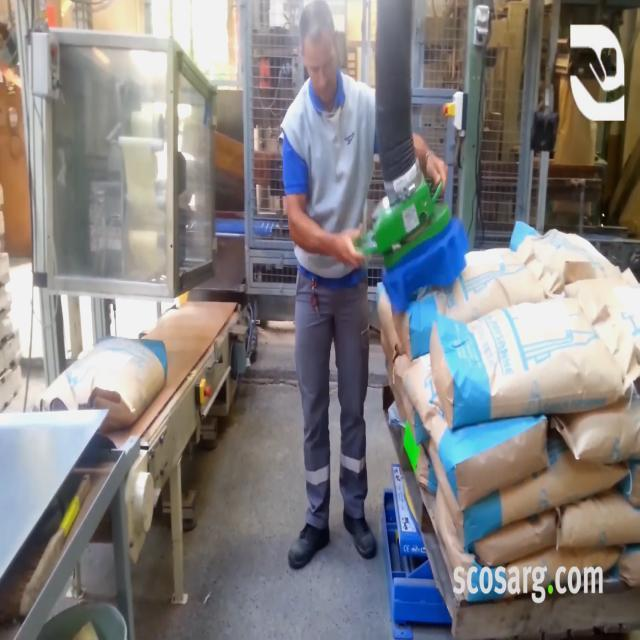gunny_bag: (431, 297, 626, 426), (404, 355, 549, 508), (436, 437, 629, 550), (40, 336, 167, 431)
